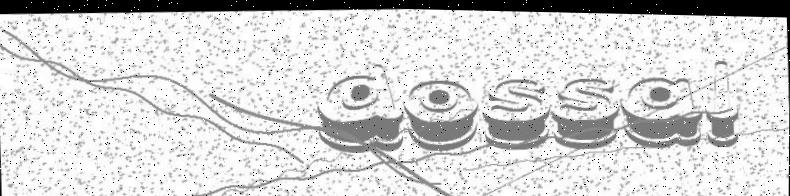a: (620, 72, 703, 146)
d: (319, 60, 406, 154)
l: (705, 55, 740, 144)
o: (404, 76, 479, 150)
s: (549, 73, 620, 147), (483, 75, 552, 148)
